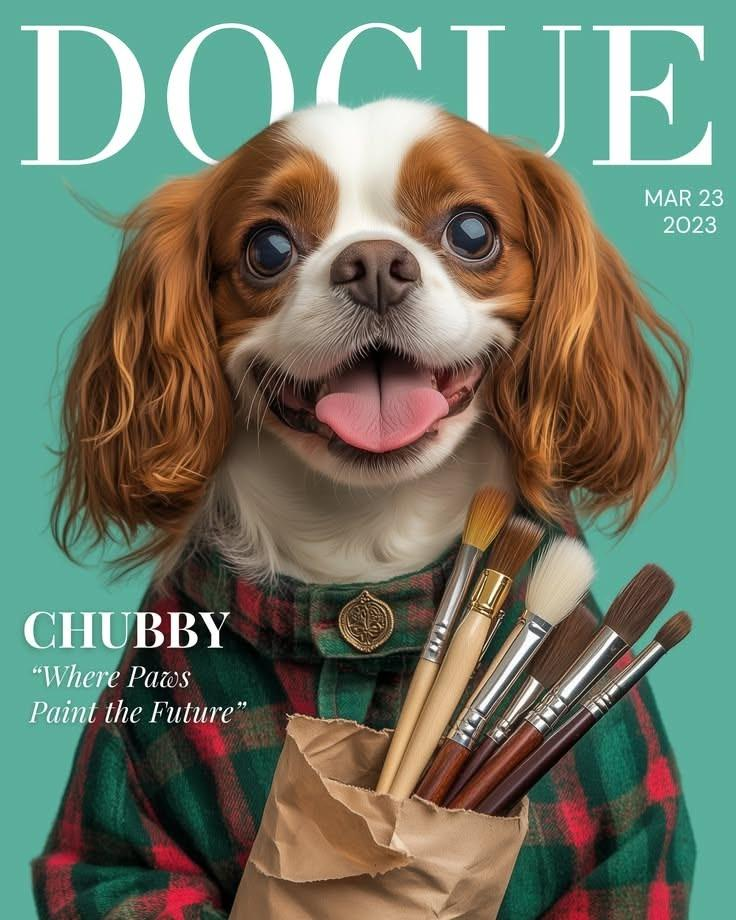adult_dog: (31, 89, 700, 920)
